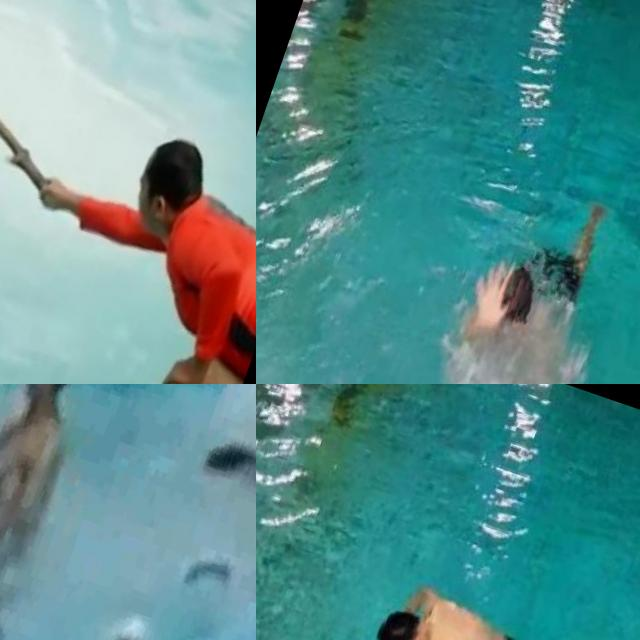drowning: (432, 229, 603, 384), (333, 565, 613, 640), (168, 384, 256, 542)
out of water: (0, 81, 256, 384)
swimming: (0, 384, 129, 566)
